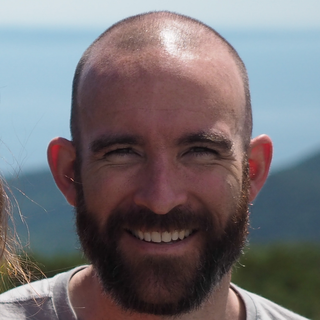eye: (175, 143, 225, 163), (98, 144, 147, 163)
